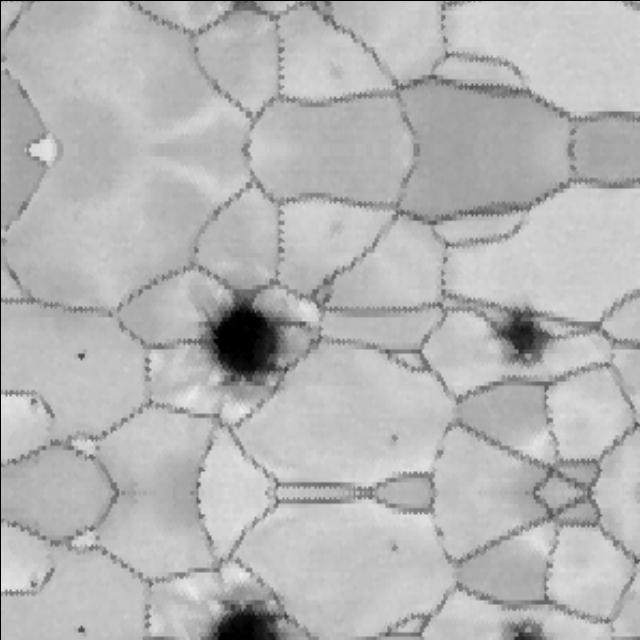good_void: (193, 289, 286, 387), (480, 293, 574, 375), (197, 597, 285, 640), (500, 617, 559, 640), (70, 343, 95, 364), (70, 619, 95, 640), (383, 429, 401, 448), (383, 535, 401, 554)
